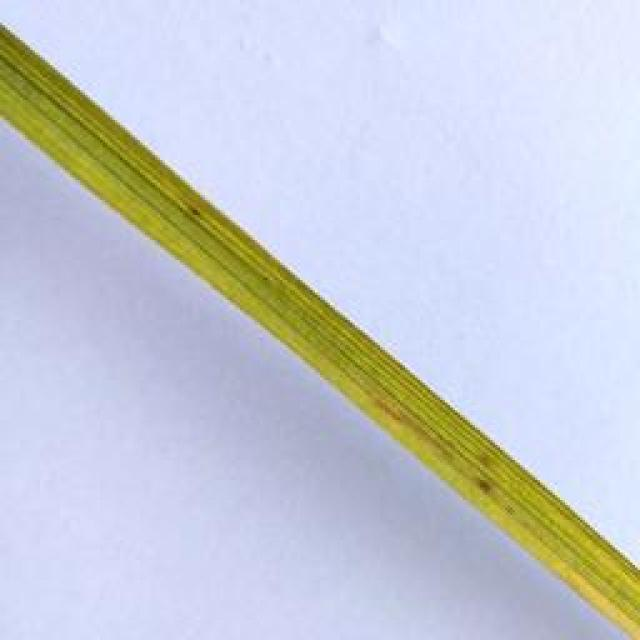Brown_Spot: (368, 403, 457, 459), (175, 194, 209, 232), (472, 469, 498, 498)
